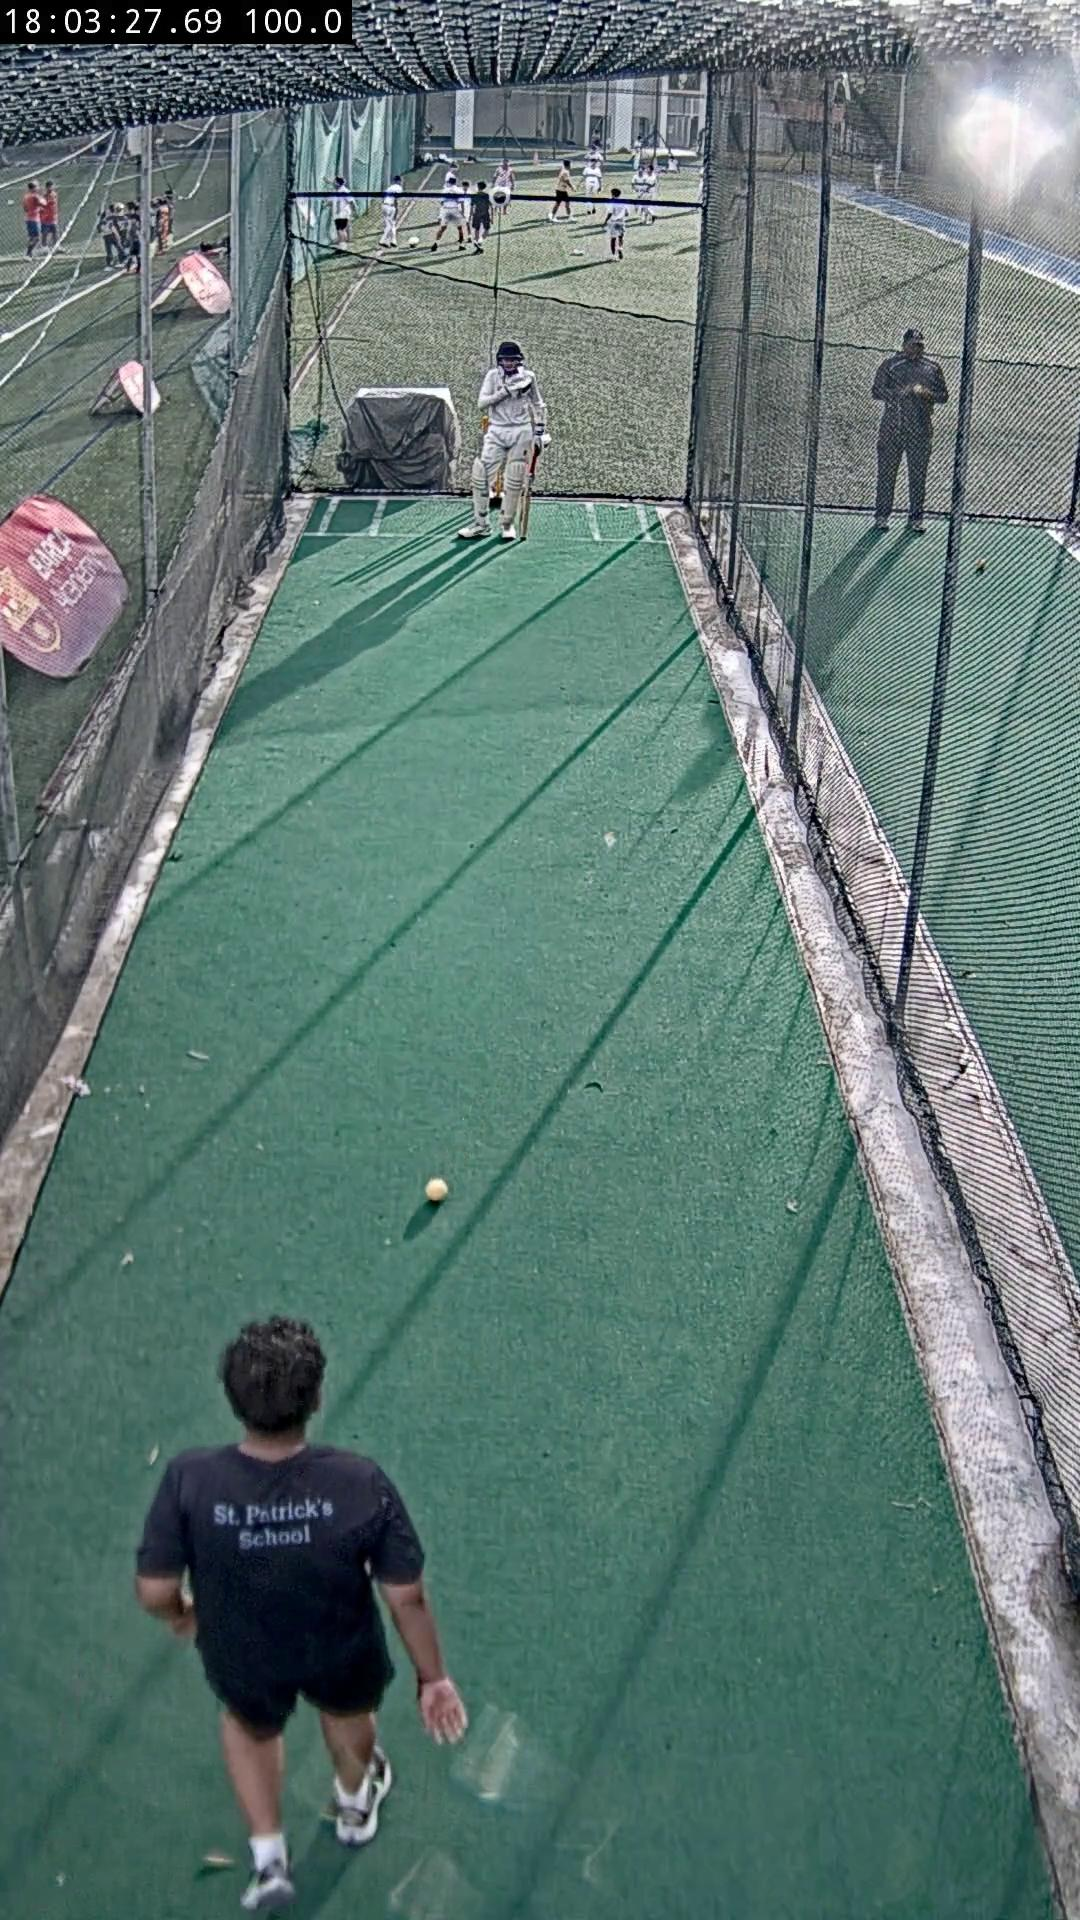ball: (423, 1178, 450, 1204)
bat: (521, 462, 534, 538)
gloves: (533, 431, 551, 450)
helmet: (495, 342, 525, 364)
pads: (498, 462, 525, 525), (472, 458, 492, 525)
